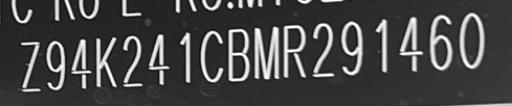letter: (456, 9, 488, 73), (396, 13, 424, 75), (427, 12, 455, 73), (196, 26, 224, 83), (144, 30, 172, 87), (252, 25, 280, 81), (224, 27, 252, 83), (338, 19, 364, 78), (310, 21, 336, 80), (92, 32, 118, 90), (370, 16, 394, 78), (281, 23, 307, 80), (119, 32, 145, 89), (69, 34, 93, 89), (44, 38, 68, 93), (18, 38, 42, 92), (174, 31, 192, 85)
